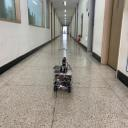cart: (53, 68, 72, 93)
